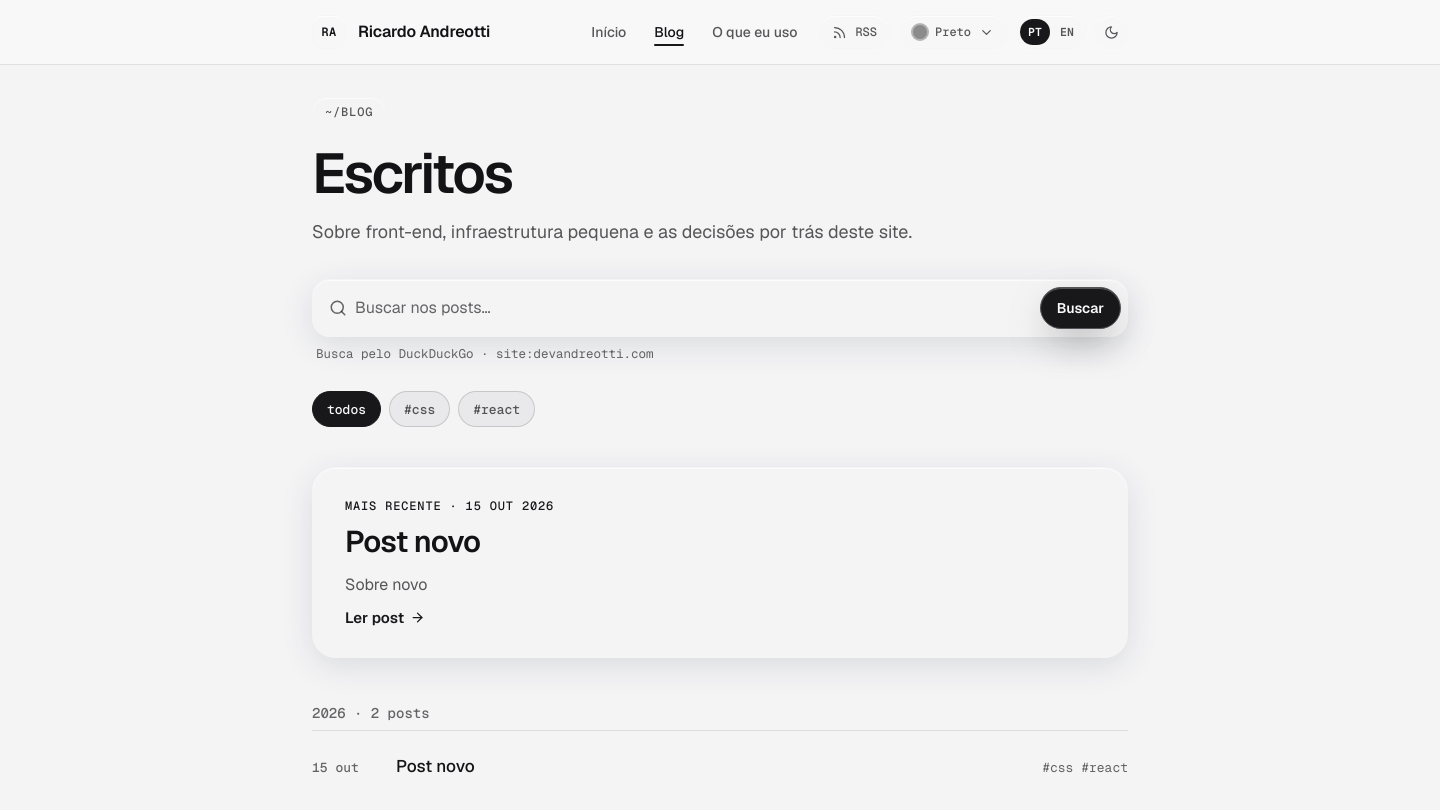
Scenario: blog pages › filters by tag, without the featured post
Click the button "#css": coordinates (420, 409) [389,391,450,427]
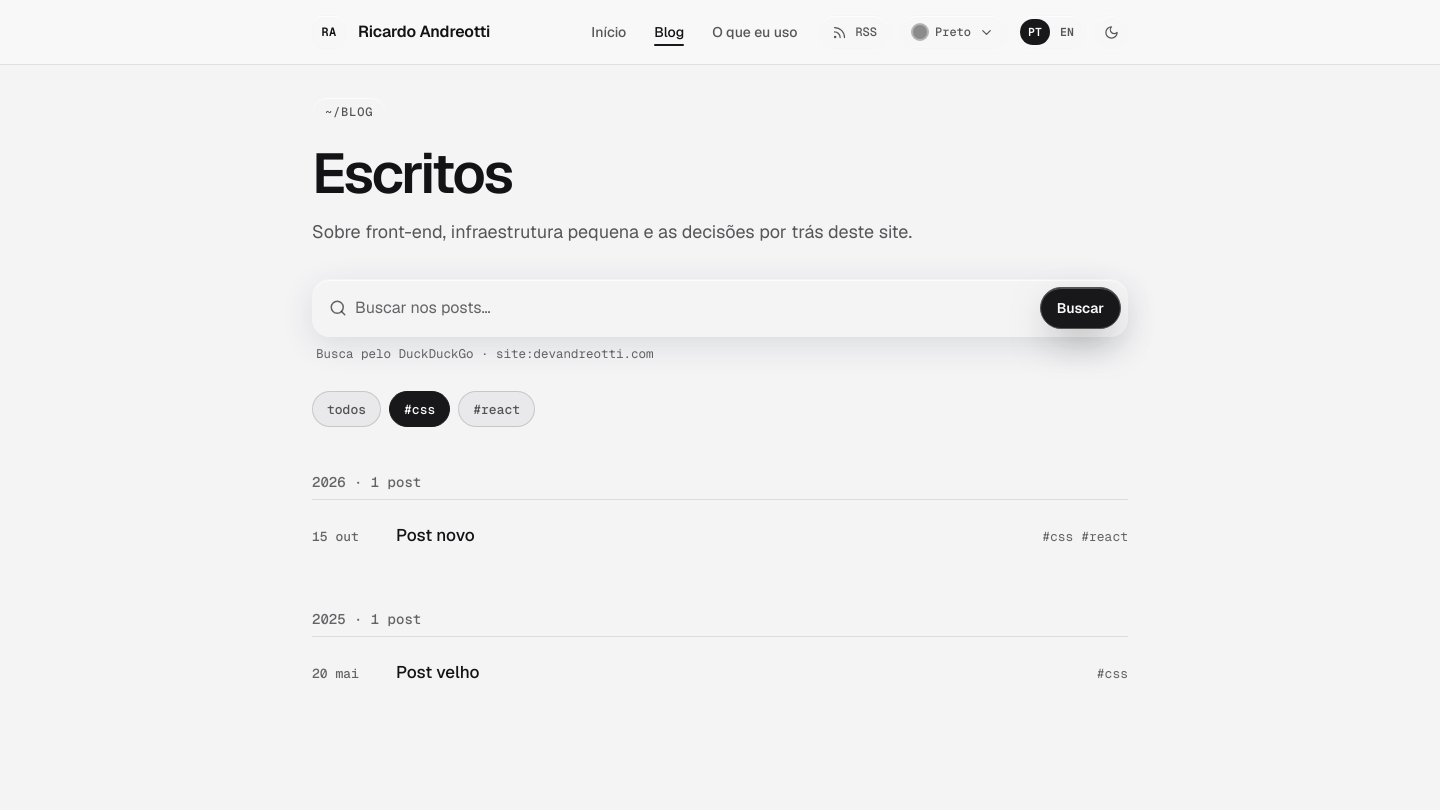
Expected: the link "Post meio" is not shown
Expected: the link "Mais recente" is gone
Click the button "todos": coordinates (346, 409) [312,391,381,427]
(page scrolled)
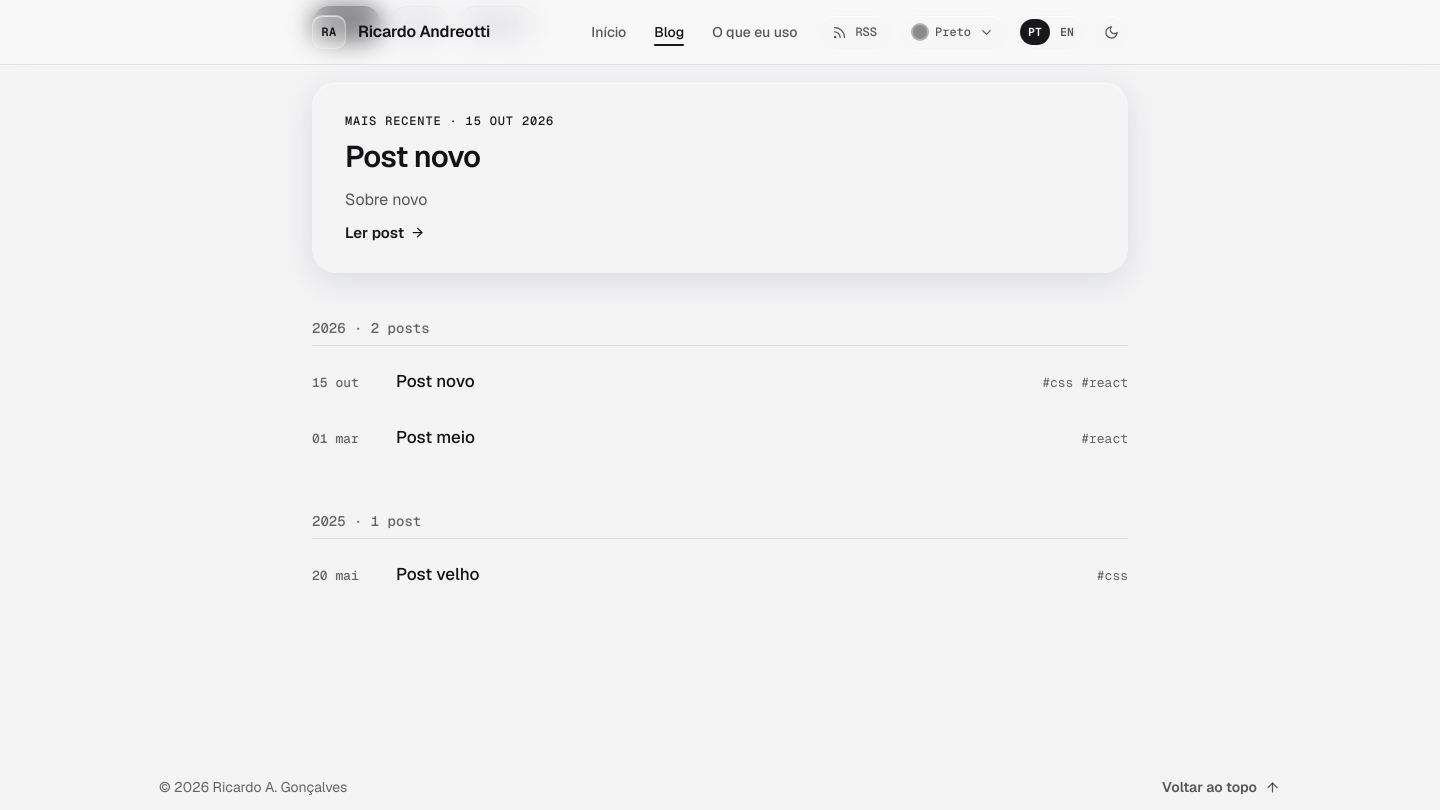
Expected: the text "Post meio" is shown, [396,426,475,448]
